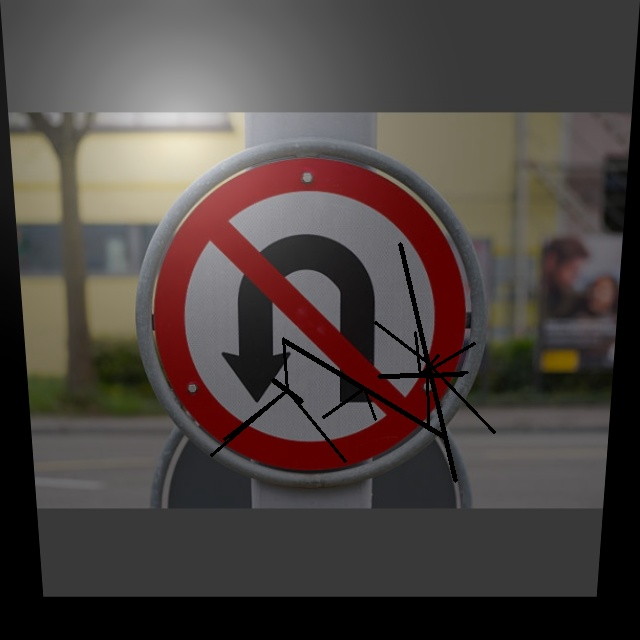U_Turn_Prohibited: (133, 144, 494, 487)
